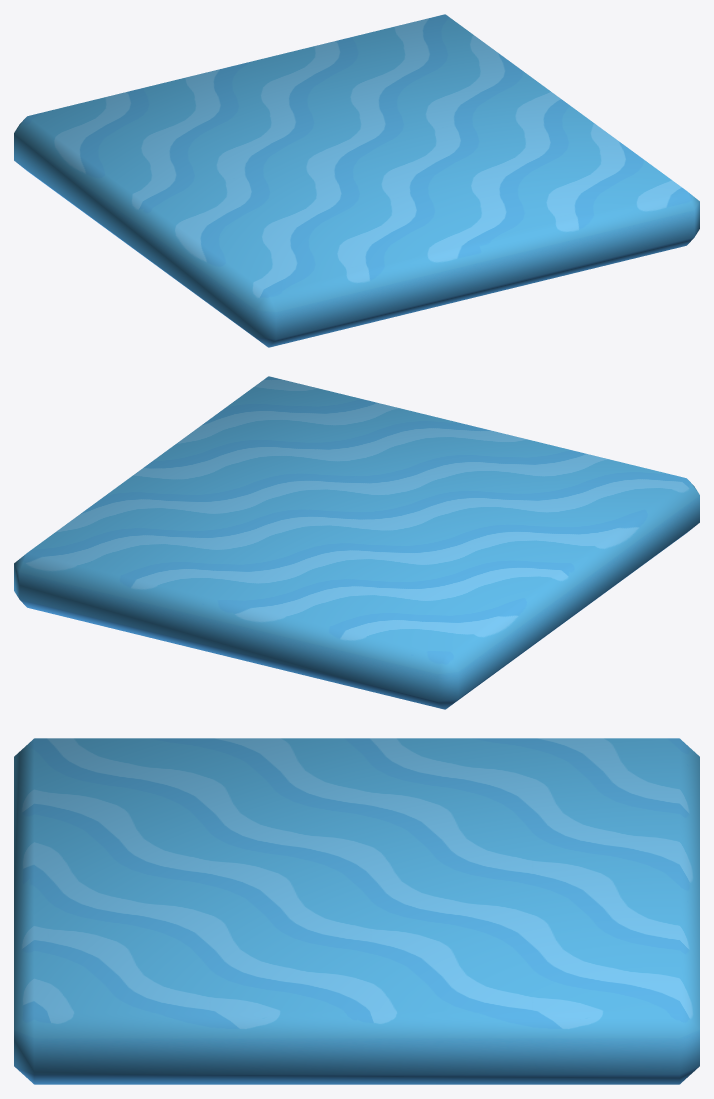
The model's file is water_top_4x4_shallow.fbx.
3 views of the same model, one above another, from view 1: azimuth 30°, elevation 25°; view 2: azimuth 150°, elevation 25°; view 3: azimuth 270°, elevation 25° (orthographic). The views are drawn at different scales.
Visible parts, largest first — view 1: water_top_4x4_shallow; view 2: water_top_4x4_shallow; view 3: water_top_4x4_shallow.
Boxes of the visible parts, x1,y1,x2,y2 form: water_top_4x4_shallow: (14, 14, 699, 347); water_top_4x4_shallow: (14, 376, 699, 709); water_top_4x4_shallow: (14, 738, 699, 1084).
Bounding box in the file's own units: 425 × 50 × 425.
